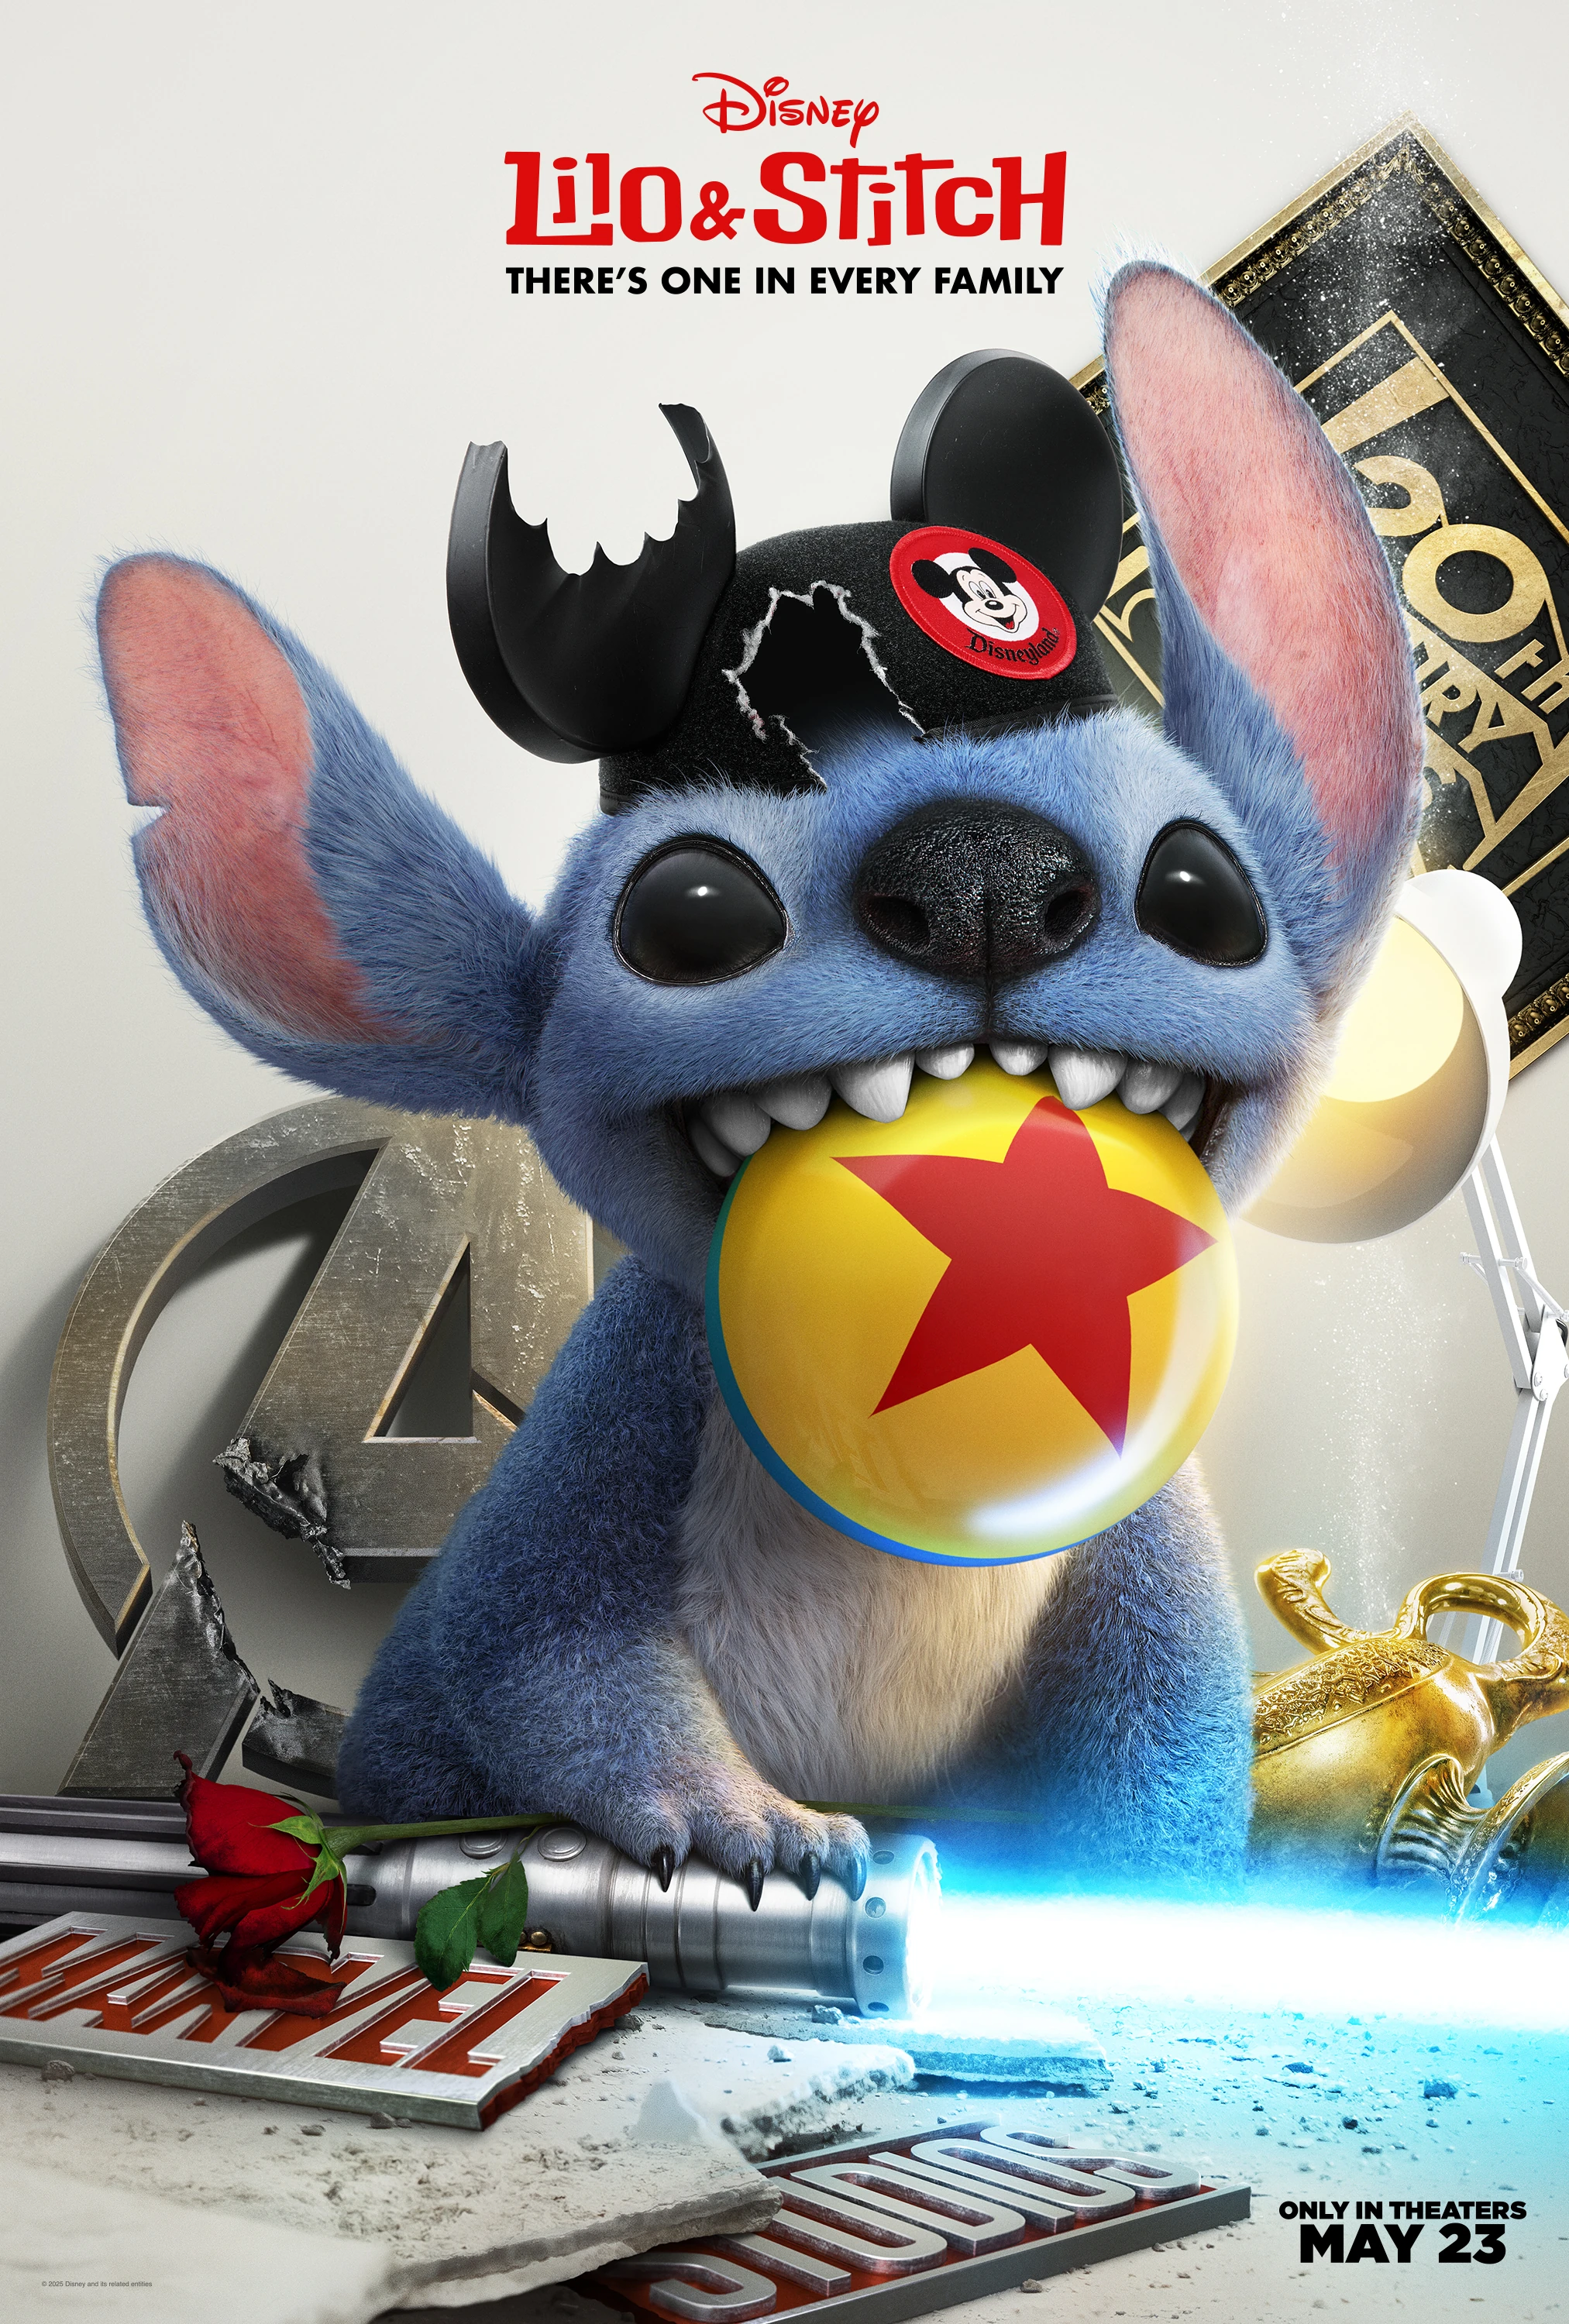Dalek: (0, 1766, 1569, 2089)
